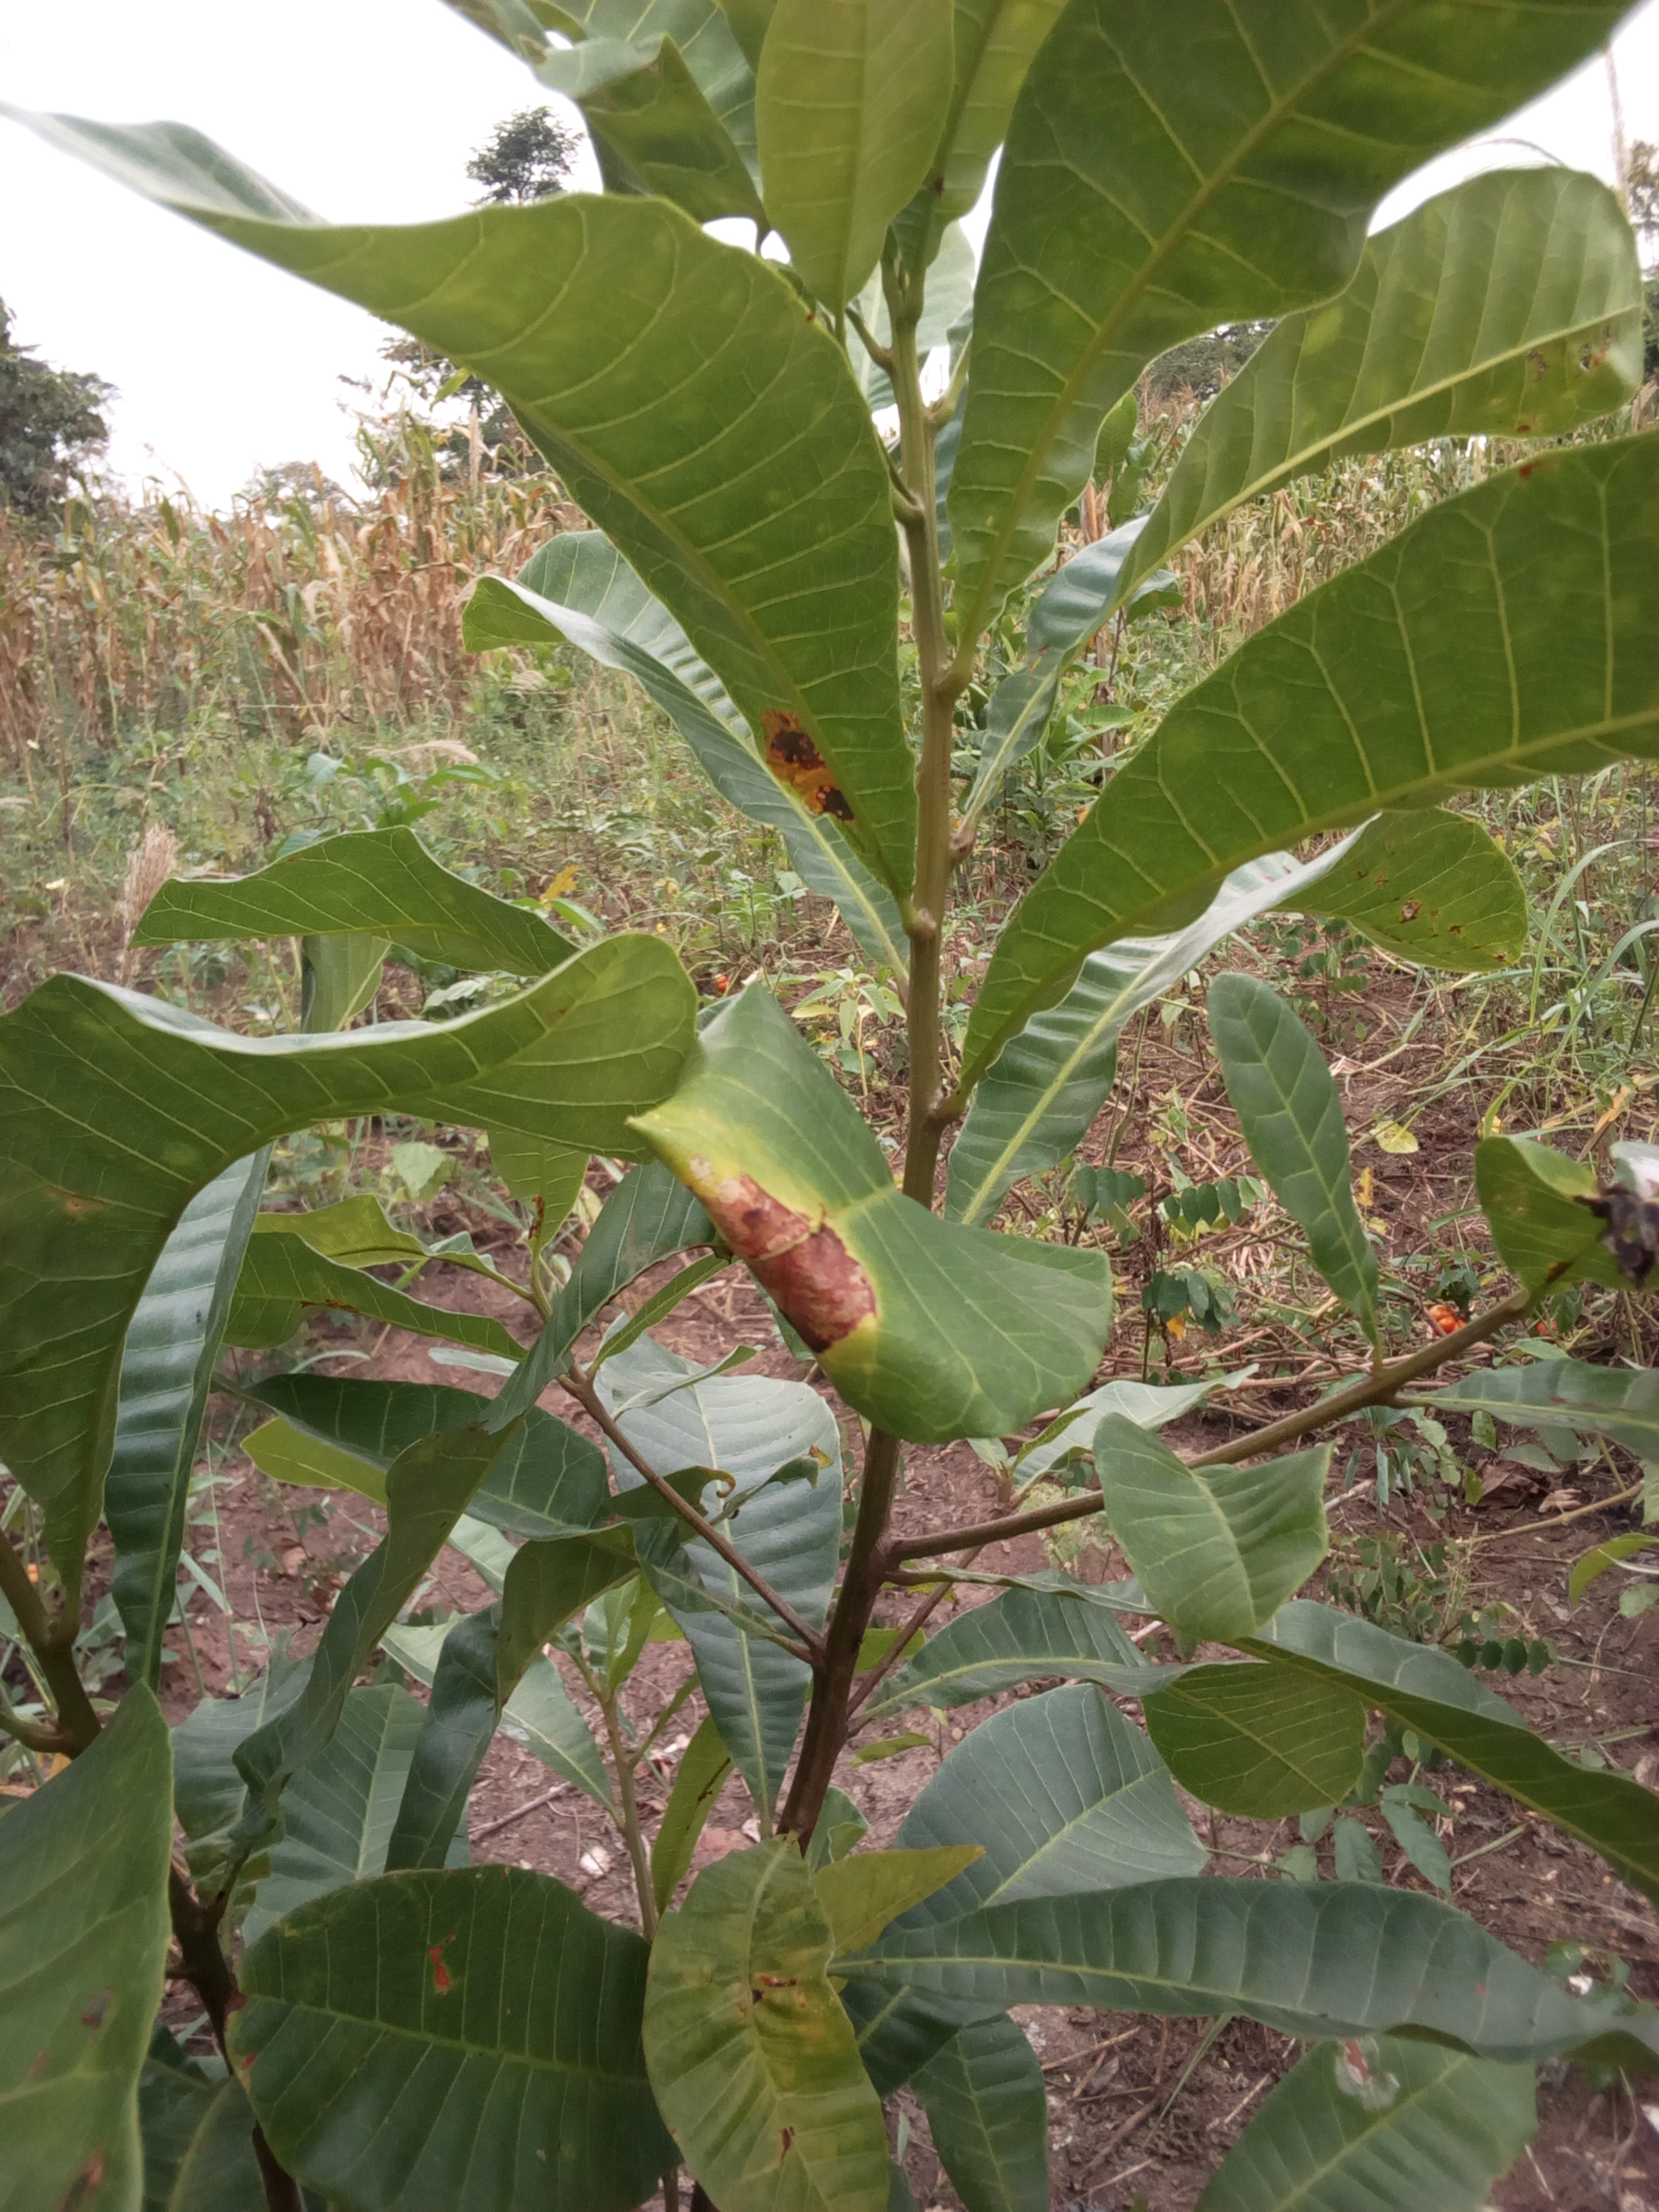Die-black: (613, 970, 1260, 1465)
